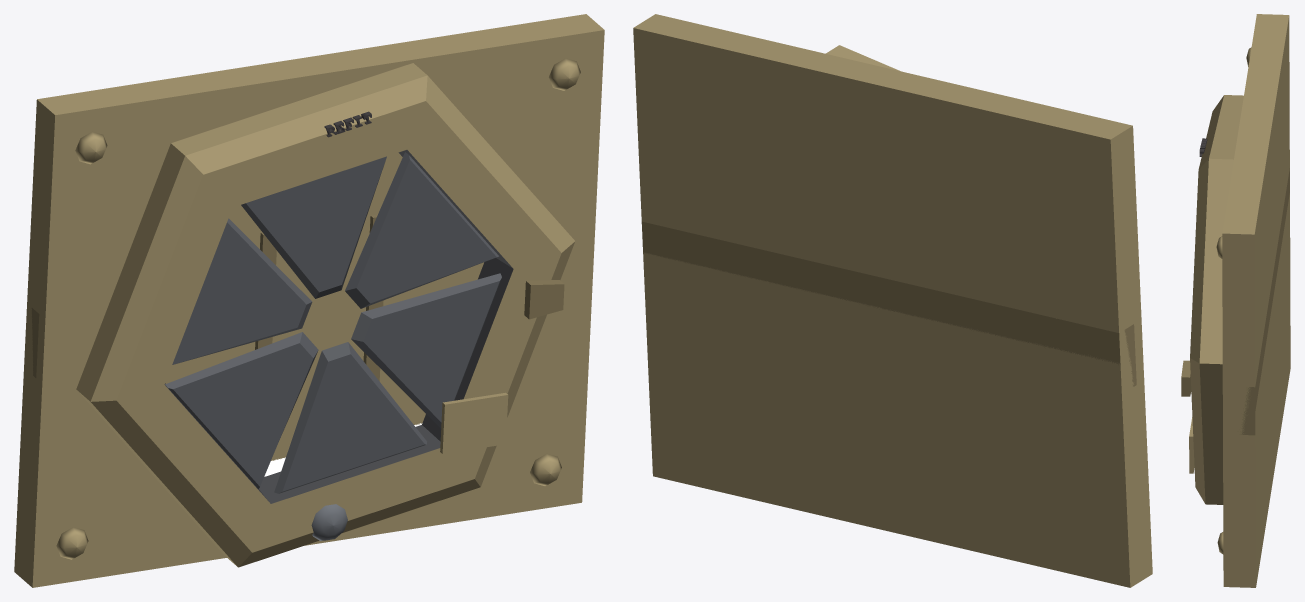
The model's file is refit.glb.
3 renders of one model, left to right at view 1: azimuth 30°, elevation 25°; view 2: azimuth 150°, elevation 25°; view 3: azimuth 270°, elevation 25°, orthographic. The views are drawn at different scales.
Parts seen in each view (by area): view 1: mta_refit_base, mta_refit_frame, mta_refit_leaf_4, mta_refit_leaf_5, mta_refit_leaf_0, mta_refit_leaf_3, mta_refit_leaf_1, mta_refit_leaf_2, mta_refit_throat, mta_refit_tally, mta_refit_detent, mta_refit_jewel (+4 smaller); view 2: mta_refit_base, mta_refit_srail; view 3: mta_refit_base, mta_refit_frame, mta_refit_srail, mta_refit_detent, mta_refit_tally.
Part boxes in pixels (box(x1,y1,x2,y2)): mta_refit_base: box(14, 14, 604, 587); mta_refit_frame: box(76, 63, 575, 567); mta_refit_leaf_4: box(274, 342, 426, 493); mta_refit_leaf_5: box(351, 273, 501, 428); mta_refit_leaf_0: box(345, 152, 498, 308); mta_refit_leaf_3: box(165, 332, 318, 488); mta_refit_leaf_1: box(241, 156, 386, 298); mta_refit_leaf_2: box(172, 218, 312, 364); mta_refit_throat: box(164, 150, 513, 503); mta_refit_tally: box(440, 392, 508, 453); mta_refit_detent: box(524, 280, 564, 319); mta_refit_jewel: box(311, 504, 347, 540); mta_refit_base: box(633, 14, 1152, 587); mta_refit_srail: box(641, 221, 1136, 386); mta_refit_base: box(1222, 14, 1290, 587); mta_refit_frame: box(1190, 95, 1243, 504); mta_refit_srail: box(1240, 168, 1289, 435); mta_refit_detent: box(1181, 360, 1191, 396); mta_refit_tally: box(1189, 417, 1194, 473).
Size of the model in its own units: 0.0509 by 0.0436 by 0.0113.
